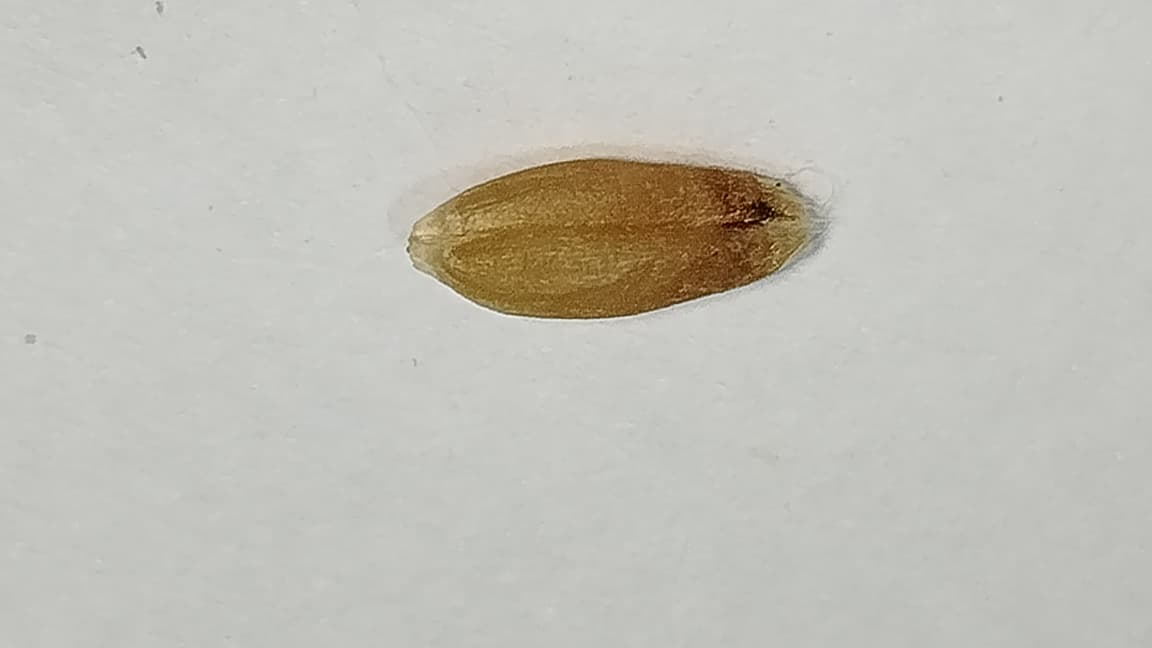healthy: (409, 157, 818, 318)
